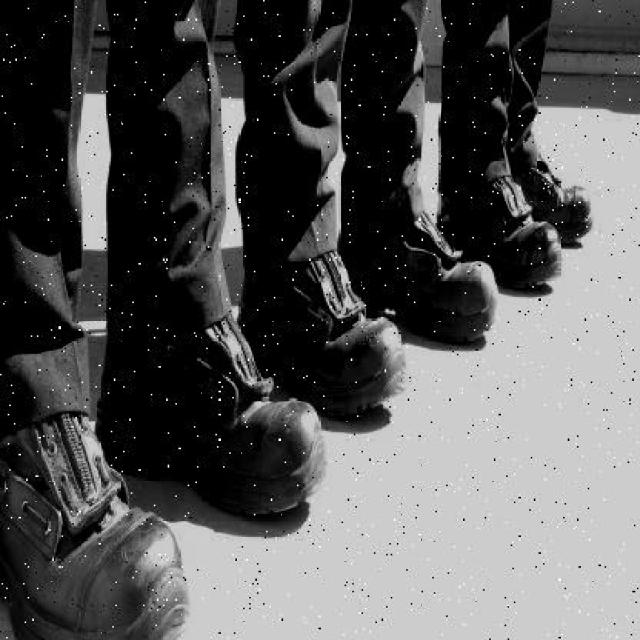shoes: (97, 294, 321, 518), (0, 398, 189, 639), (234, 246, 394, 409), (342, 218, 492, 350), (436, 175, 558, 291), (515, 158, 594, 238)
